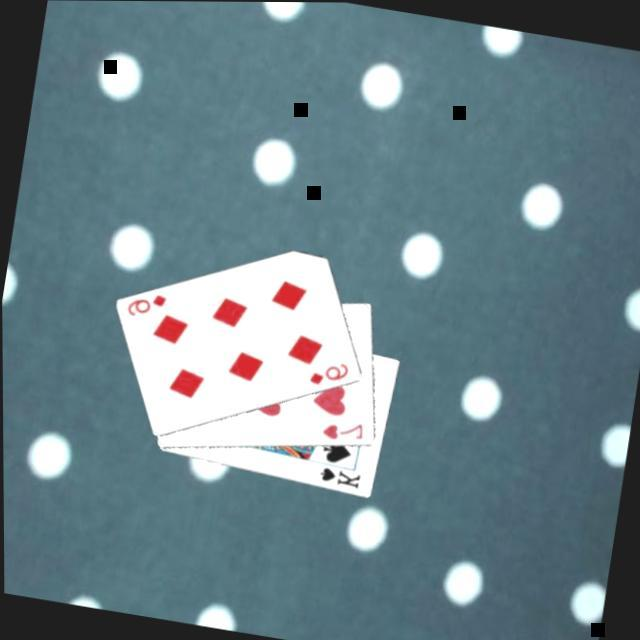6D: (303, 353, 351, 391), (122, 285, 168, 323)
7H: (316, 413, 366, 446)
KS: (313, 462, 362, 491)
